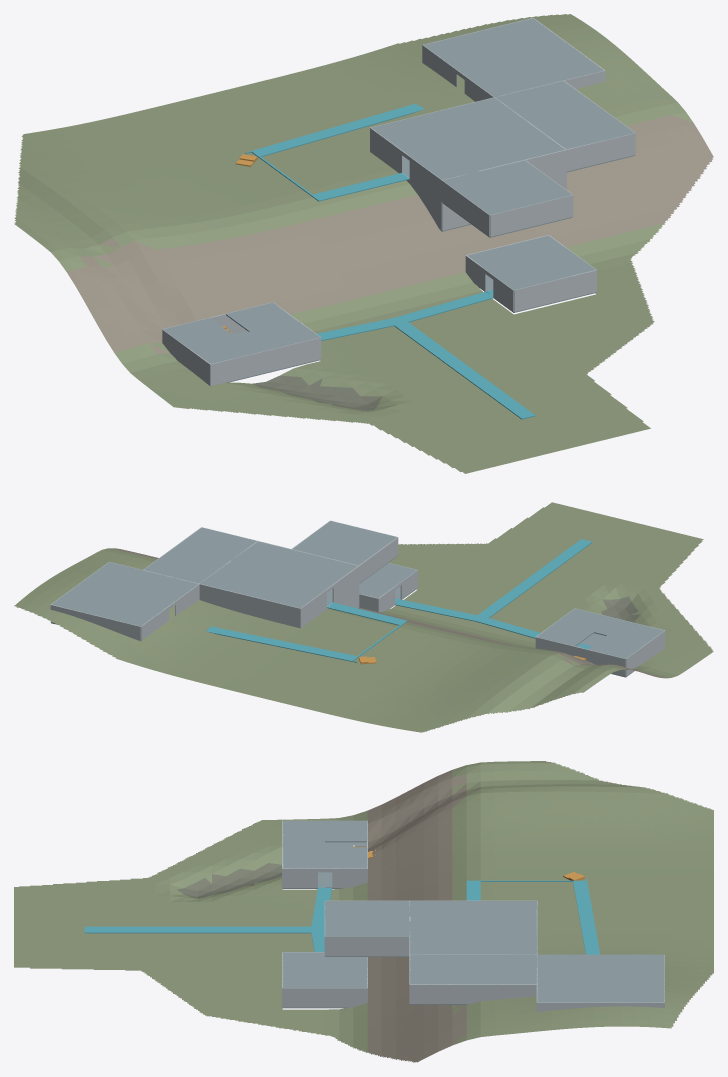
Rendered from terrain-assembly.glb.
3 renders of one model, top to bottom at view 1: azimuth 30°, elevation 25°; view 2: azimuth 150°, elevation 25°; view 3: azimuth 270°, elevation 25°, orthographic. The views are drawn at different scales.
Visible parts, largest first — view 1: Saved editor macroterrain WLD-03, Ceiling cap gallery, Ceiling cap chamber, Ceiling cap fork, Ceiling cap alcove, Ceiling cap wash, Wall shelter S, Wall wash S, Wall alcove S, L12 support 0, Wall fork S, Ceiling cap shelter.003 (+12 smaller); view 2: Saved editor macroterrain WLD-03, Ceiling cap gallery, Ceiling cap chamber, Ceiling cap fork, Ceiling cap alcove, Wall gallery N, L12 support 0, Ceiling cap wash, Wall shelter N, Wall chamber N, Ceiling cap shelter.003, Ceiling cap shelter.004 (+13 smaller); view 3: Saved editor macroterrain WLD-03, Ceiling cap gallery, Ceiling cap chamber, Ceiling cap fork, Ceiling cap alcove, Ceiling cap wash, Wall fork E, Wall alcove E, Wall wash E, L12 support 0, Ceiling cap shelter, Ceiling cap shelter.001 (+8 smaller).
Boxes of the visible parts, x1,y1,x2,y2 form: Saved editor macroterrain WLD-03: (14, 14, 713, 473); Ceiling cap gallery: (371, 97, 564, 179); Ceiling cap chamber: (423, 18, 603, 97); Ceiling cap fork: (495, 81, 634, 149); Ceiling cap alcove: (443, 160, 572, 214); Ceiling cap wash: (467, 235, 595, 290); Wall shelter S: (210, 337, 320, 385); Wall wash S: (514, 270, 596, 311); Wall alcove S: (490, 195, 572, 236); L12 support 0: (245, 103, 424, 156); Wall fork S: (566, 133, 635, 171); Ceiling cap shelter.003: (226, 302, 295, 331); Saved editor macroterrain WLD-03: (14, 502, 713, 732); Ceiling cap gallery: (200, 541, 357, 608); Ceiling cap chamber: (52, 562, 197, 626); Ceiling cap fork: (143, 527, 256, 583); Ceiling cap alcove: (292, 521, 396, 565); Wall gallery N: (199, 583, 300, 626); L12 support 0: (206, 626, 358, 662); Ceiling cap wash: (359, 563, 416, 598); Wall shelter N: (535, 637, 625, 676); Wall chamber N: (50, 604, 140, 641); Ceiling cap shelter.003: (536, 623, 593, 646); Ceiling cap shelter.004: (556, 608, 612, 631); Saved editor macroterrain WLD-03: (14, 761, 713, 1062); Ceiling cap gallery: (410, 901, 537, 954); Ceiling cap chamber: (537, 954, 664, 1002); Ceiling cap fork: (410, 954, 537, 984); Ceiling cap alcove: (325, 901, 409, 936); Ceiling cap wash: (282, 952, 367, 987); Wall fork E: (410, 984, 537, 1003); Wall alcove E: (325, 937, 409, 956); Wall wash E: (282, 988, 367, 1007); L12 support 0: (573, 878, 600, 954); Ceiling cap shelter: (325, 820, 367, 842); Ceiling cap shelter.001: (282, 820, 324, 841).
Bounding box in the file's own units: 91 × 12.51 × 99.
19 materials, 12 textured.
